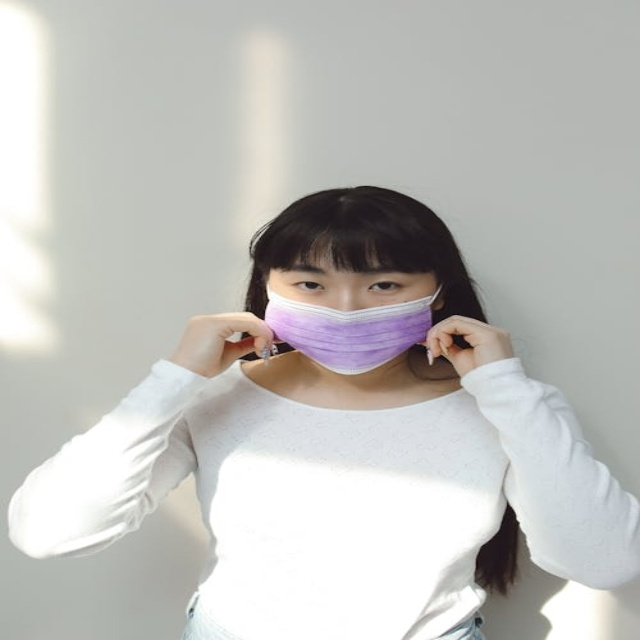Mascara: (260, 281, 443, 375)
Sin_gafas: (367, 281, 403, 292), (293, 280, 326, 291)
Sin_guantes: (169, 304, 282, 381), (416, 307, 521, 383)
